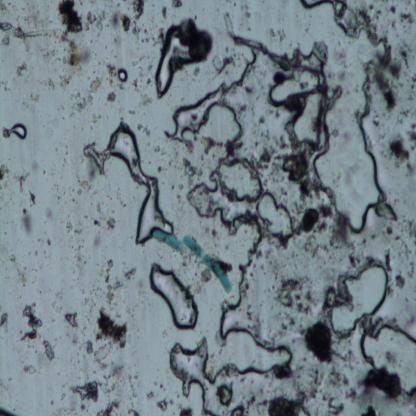Air bubble: (168, 306, 298, 416), (318, 72, 389, 236), (84, 119, 174, 247), (166, 48, 258, 140), (327, 261, 388, 337), (186, 171, 256, 231), (360, 322, 416, 394), (149, 262, 199, 331), (153, 30, 191, 99), (255, 192, 294, 240), (5, 124, 28, 141), (118, 67, 129, 83), (20, 94, 30, 111)
Background material: (66, 169, 89, 276), (51, 36, 86, 91), (298, 367, 360, 398), (374, 42, 400, 110), (94, 364, 143, 400), (279, 141, 312, 194), (276, 271, 314, 314), (306, 317, 335, 365), (98, 305, 128, 351), (243, 142, 278, 181), (6, 242, 37, 286), (364, 367, 403, 401), (320, 205, 350, 245), (130, 68, 156, 108), (263, 392, 308, 415), (58, 0, 86, 36), (19, 304, 44, 342), (387, 136, 414, 171), (394, 239, 416, 278), (375, 4, 416, 24), (102, 256, 118, 305), (294, 227, 320, 256), (70, 379, 99, 404), (297, 204, 320, 234), (84, 8, 107, 36), (181, 155, 203, 184), (91, 191, 106, 231), (212, 52, 235, 76), (85, 340, 107, 365), (200, 133, 222, 154), (378, 200, 399, 222), (399, 215, 416, 242), (274, 361, 295, 382), (324, 396, 348, 414), (97, 396, 121, 414), (341, 246, 361, 267), (262, 25, 287, 41), (81, 291, 101, 311), (86, 73, 102, 97), (397, 70, 416, 90), (21, 209, 35, 236), (132, 118, 153, 136), (41, 337, 56, 362), (216, 384, 233, 406), (15, 362, 38, 378), (0, 304, 11, 335), (71, 92, 87, 113), (116, 15, 131, 36), (30, 86, 45, 106), (132, 0, 146, 21), (225, 140, 243, 155), (64, 310, 79, 328), (251, 246, 266, 262), (345, 385, 359, 402), (122, 262, 135, 280), (177, 403, 195, 416), (143, 28, 157, 44), (370, 113, 387, 126), (230, 404, 248, 416), (106, 66, 116, 86), (15, 63, 28, 78), (394, 274, 406, 290), (254, 112, 270, 124), (402, 45, 410, 69), (16, 176, 26, 194), (27, 190, 37, 208), (0, 406, 18, 416), (132, 22, 142, 40), (202, 270, 213, 286), (359, 406, 380, 414), (405, 125, 416, 140), (0, 164, 9, 182), (157, 399, 169, 412), (161, 5, 170, 22), (107, 91, 118, 104), (208, 226, 218, 240), (2, 34, 12, 47), (107, 217, 115, 231), (172, 1, 184, 9), (44, 236, 53, 246), (130, 60, 140, 67)
Cellulose filter fibre: (223, 12, 323, 75), (0, 18, 59, 37)
